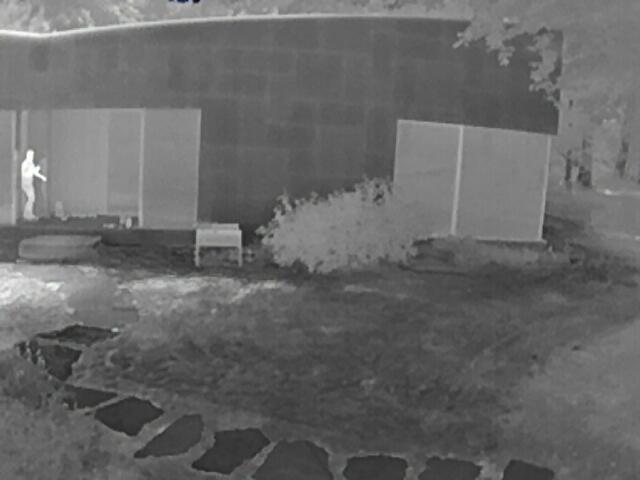person: (18, 149, 48, 222)
